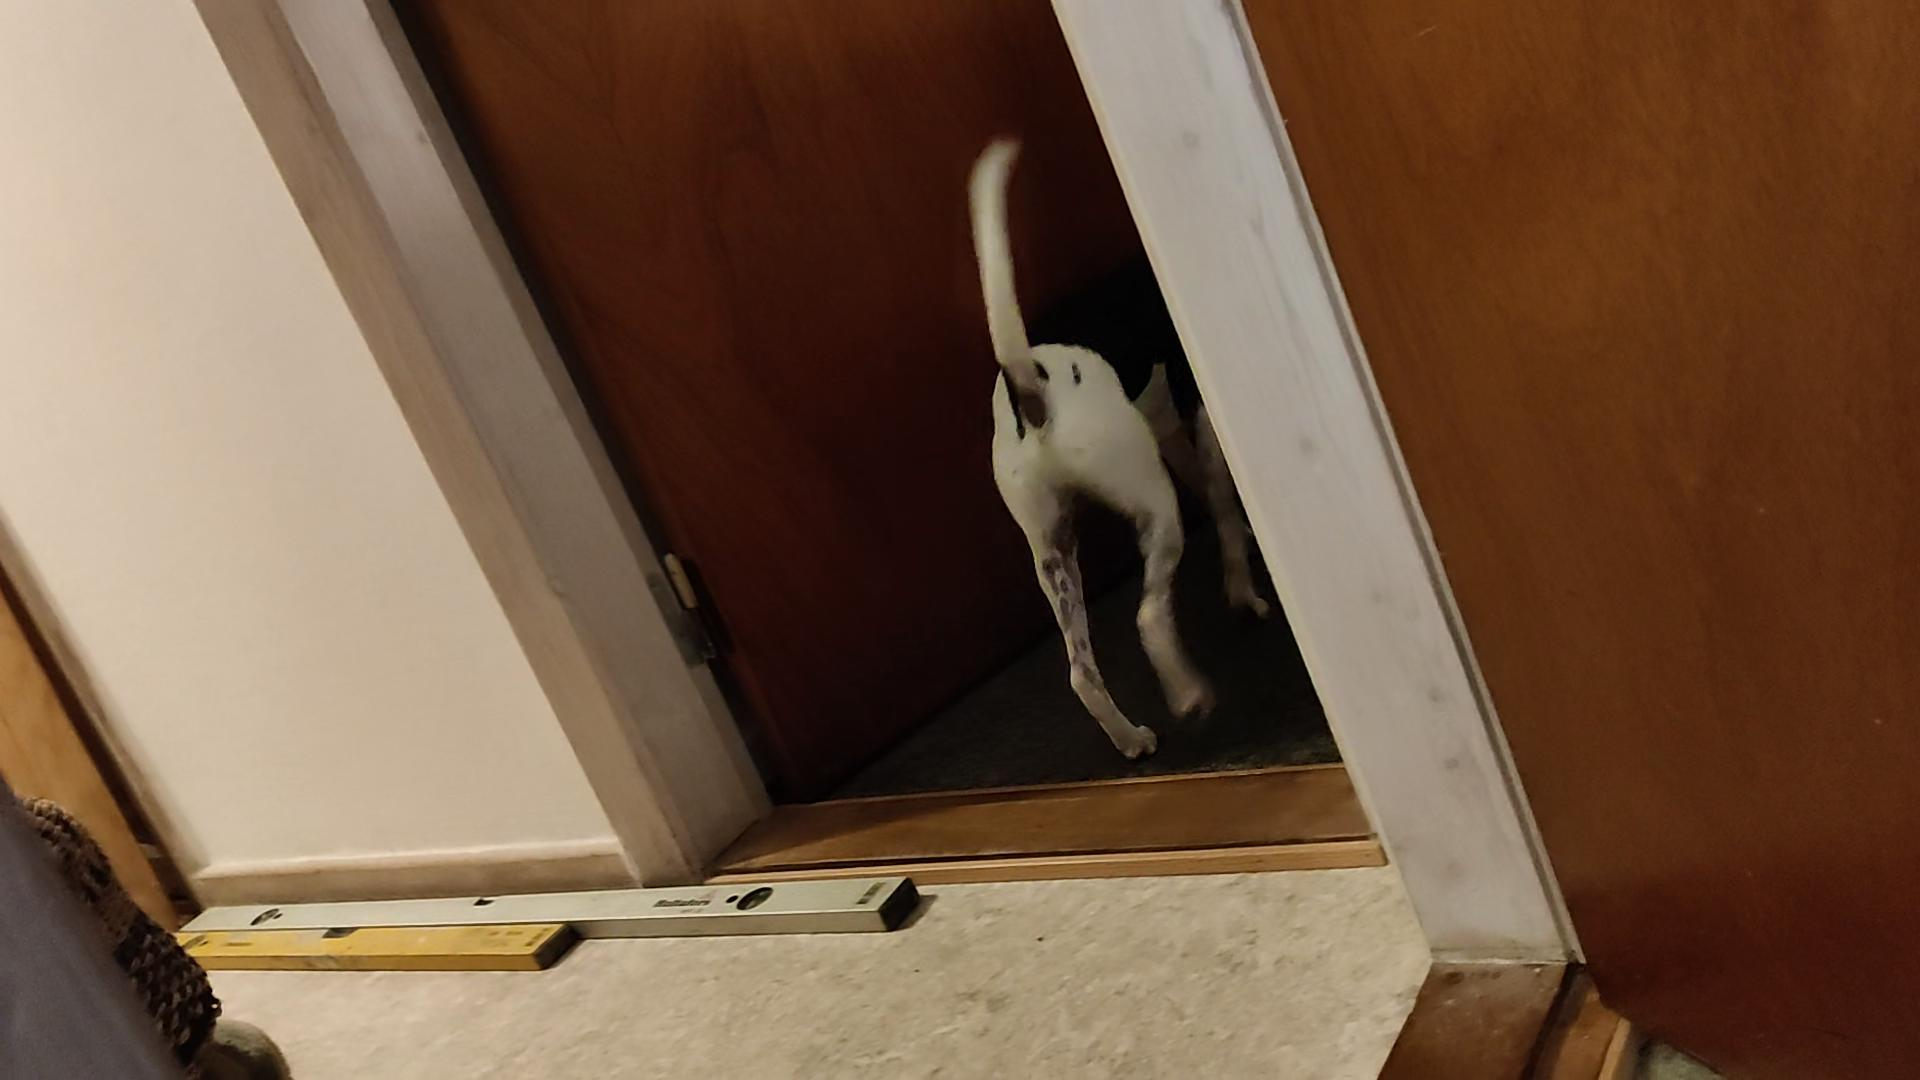Dog: (957, 120, 1284, 766)
